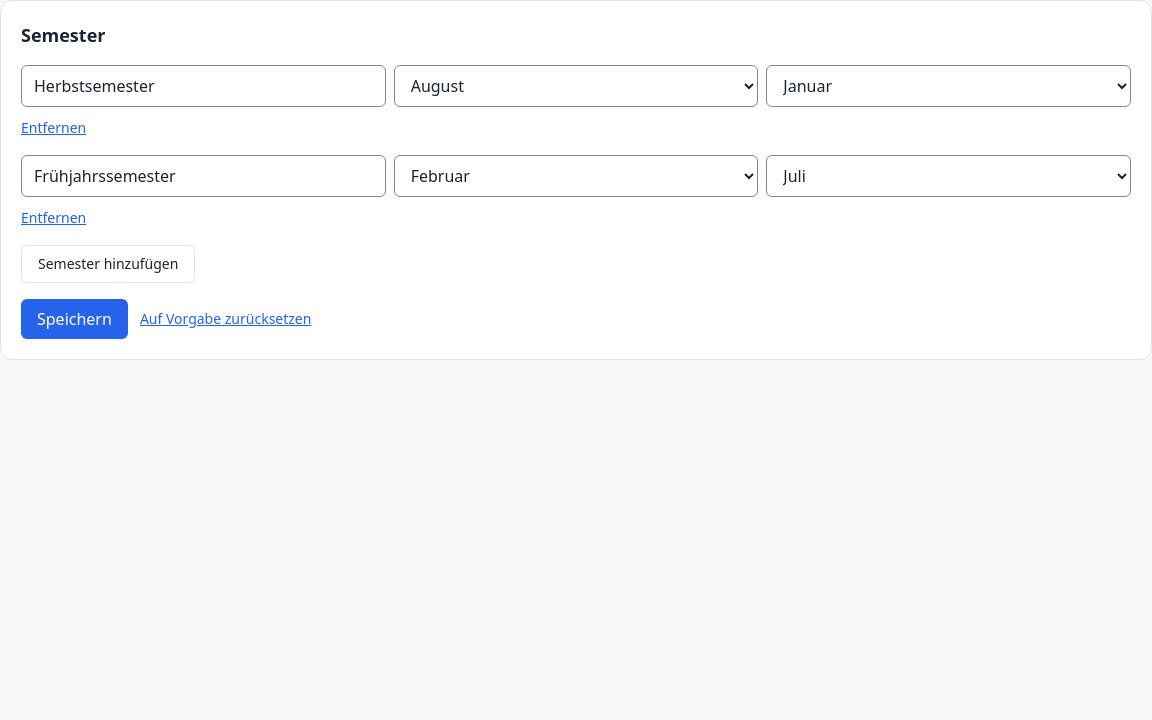
Test: Semester › AK-1: Semester hinzufügen und entfernen
Click the button "Semester hinzufügen" at (108, 264), box [21,245,195,283]
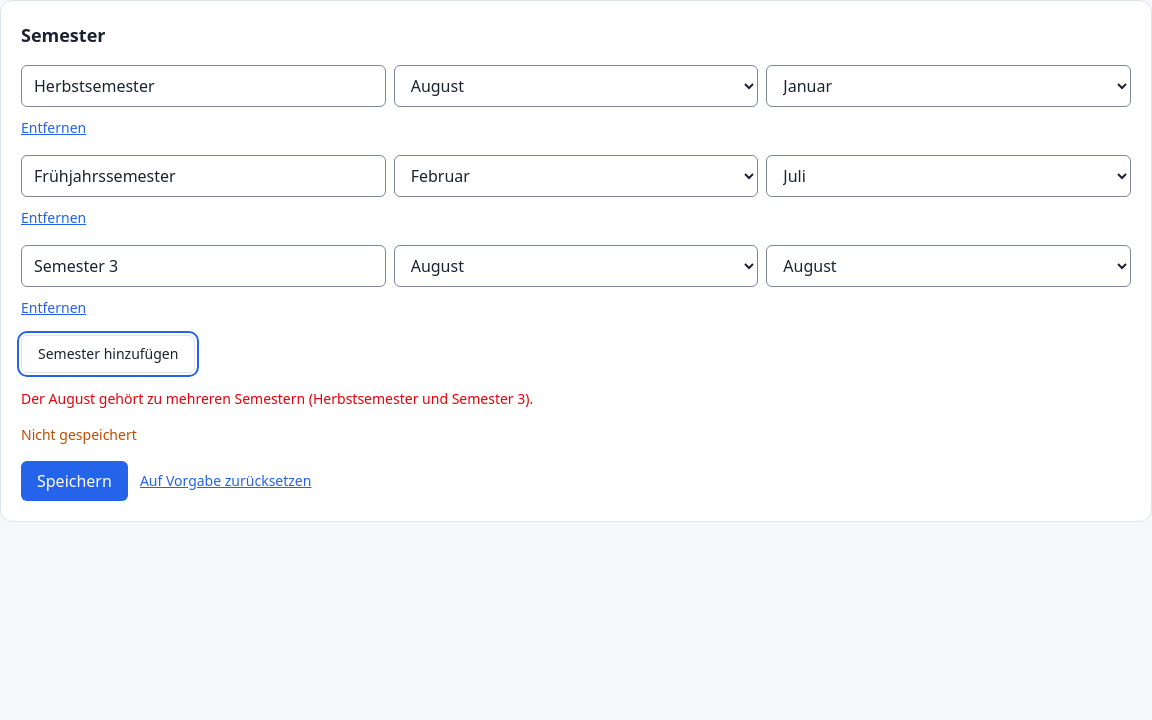
Expected: the number of fields named "Name Semester 1" is 3, [21,65,386,107]; [21,155,386,197]; [21,245,386,287]
Expected: the field named "Name Semester 3" holds "Semester 3", [21,245,386,287]
Click the button "Semester hinzufügen" at (108, 354), box [21,335,195,373]
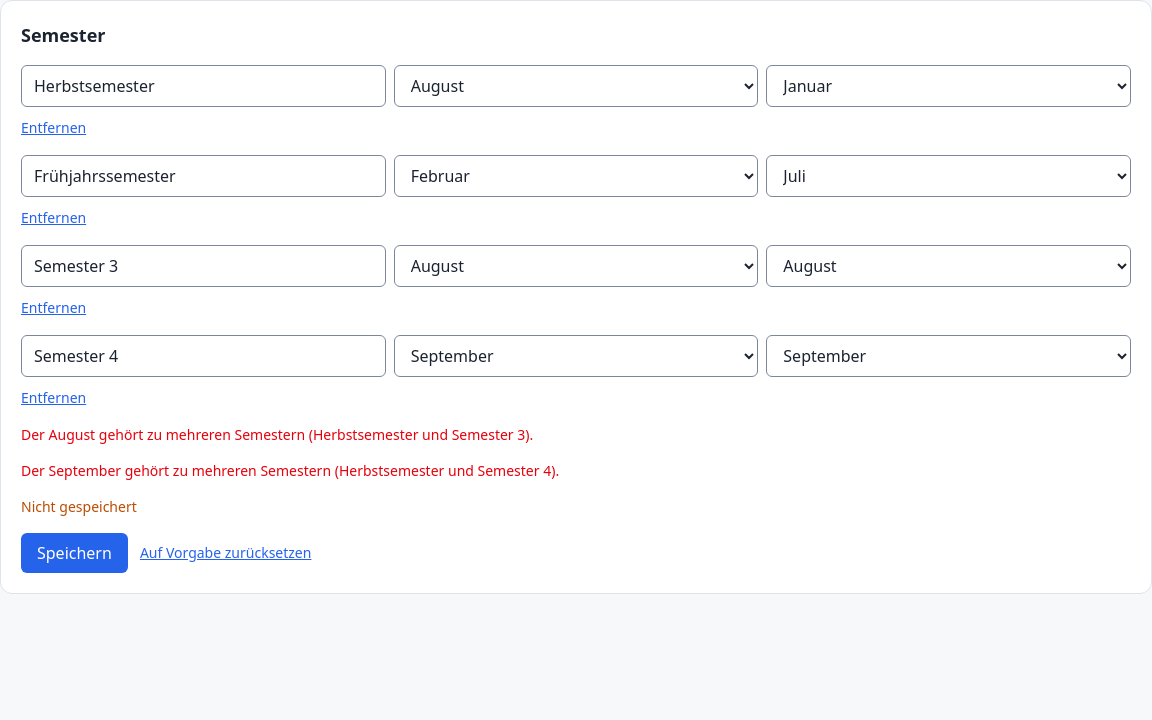
Expected: the number of fields named "Name Semester 1" is 4, [21,65,386,107]; [21,155,386,197]; [21,245,386,287]; [21,335,386,377]
Expected: the button "Semester hinzufügen" is gone
Click the button with aria-label "Semester 1 entfernen" at (54, 128), box [21,118,86,138]
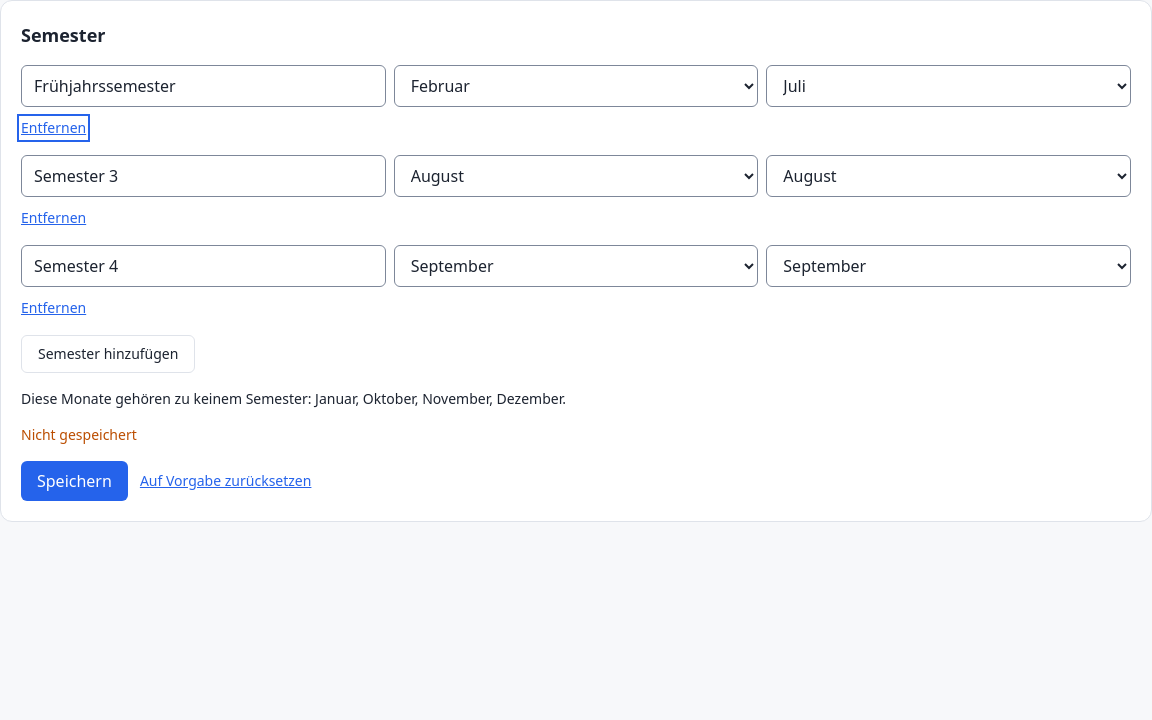
Click the button with aria-label "Semester 1 entfernen" at (54, 128), box [21,118,86,138]
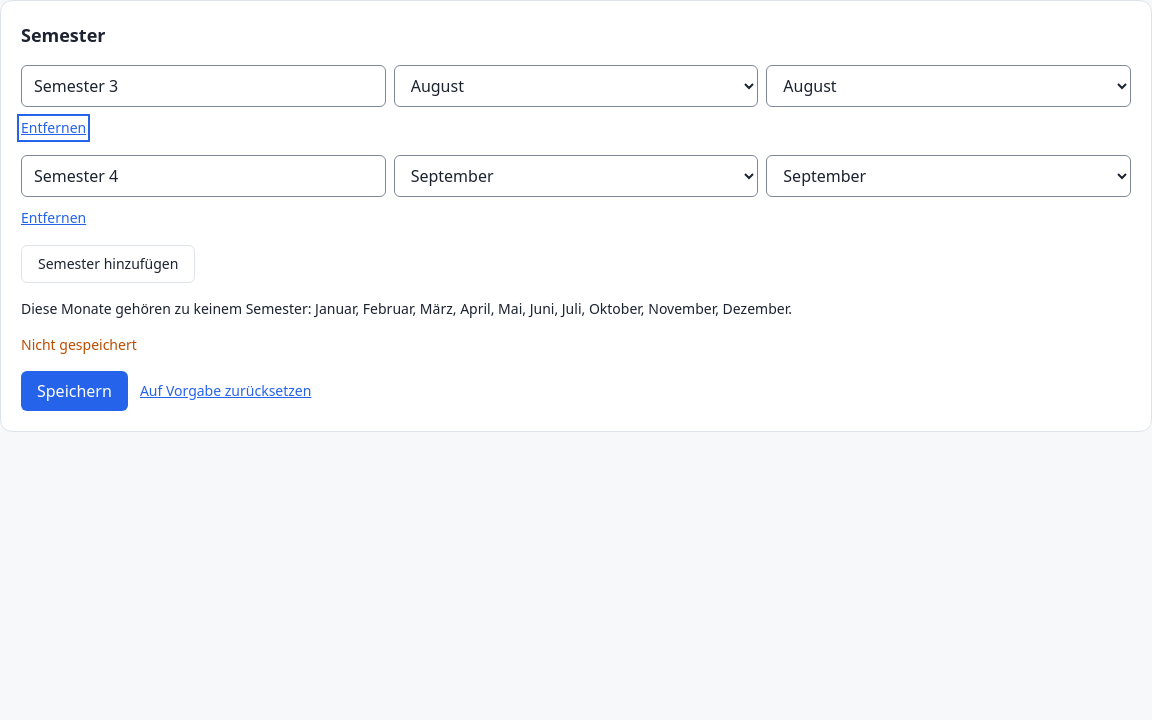
Click the button with aria-label "Semester 1 entfernen" at (54, 128), box [21,118,86,138]
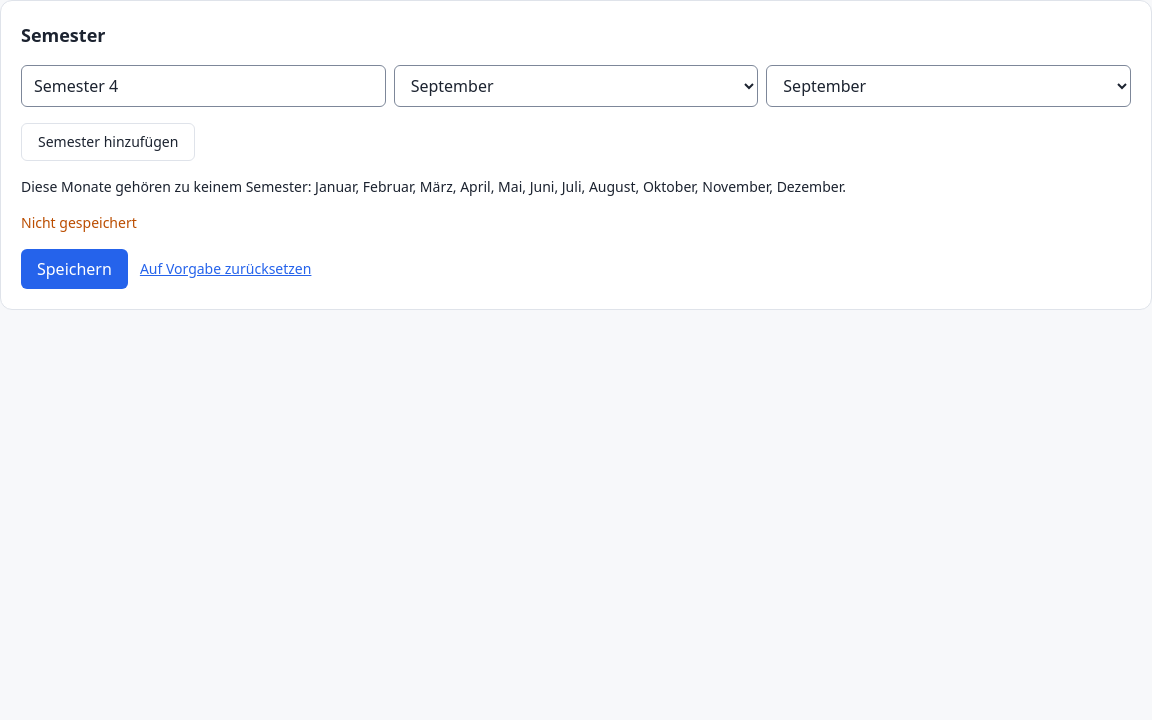
Expected: the number of fields named "Name Semester 1" is 1, [21,65,386,107]
Expected: the button "Entfernen" is gone
